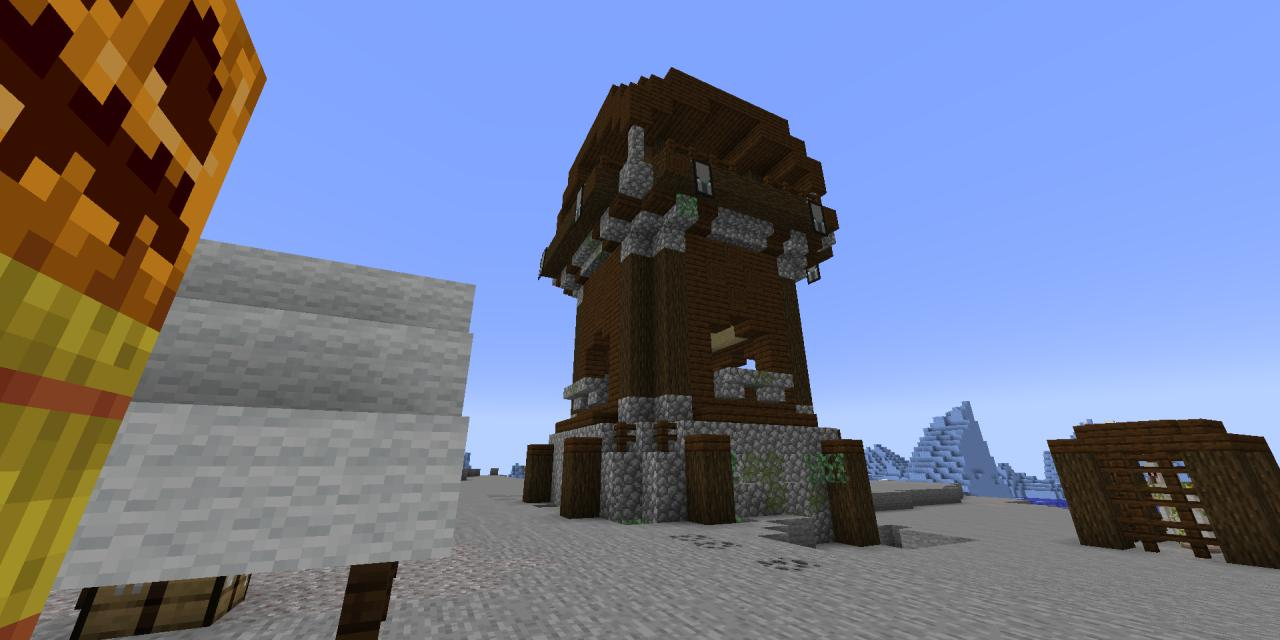pillager outpost: (520, 53, 902, 556)
